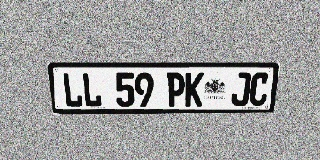5: (115, 73, 135, 107)
9: (135, 73, 153, 107)
C: (249, 73, 270, 106)
J: (231, 73, 252, 106)
K: (185, 73, 204, 106)
L: (62, 73, 83, 107), (81, 73, 102, 107)
P: (166, 73, 185, 107)
